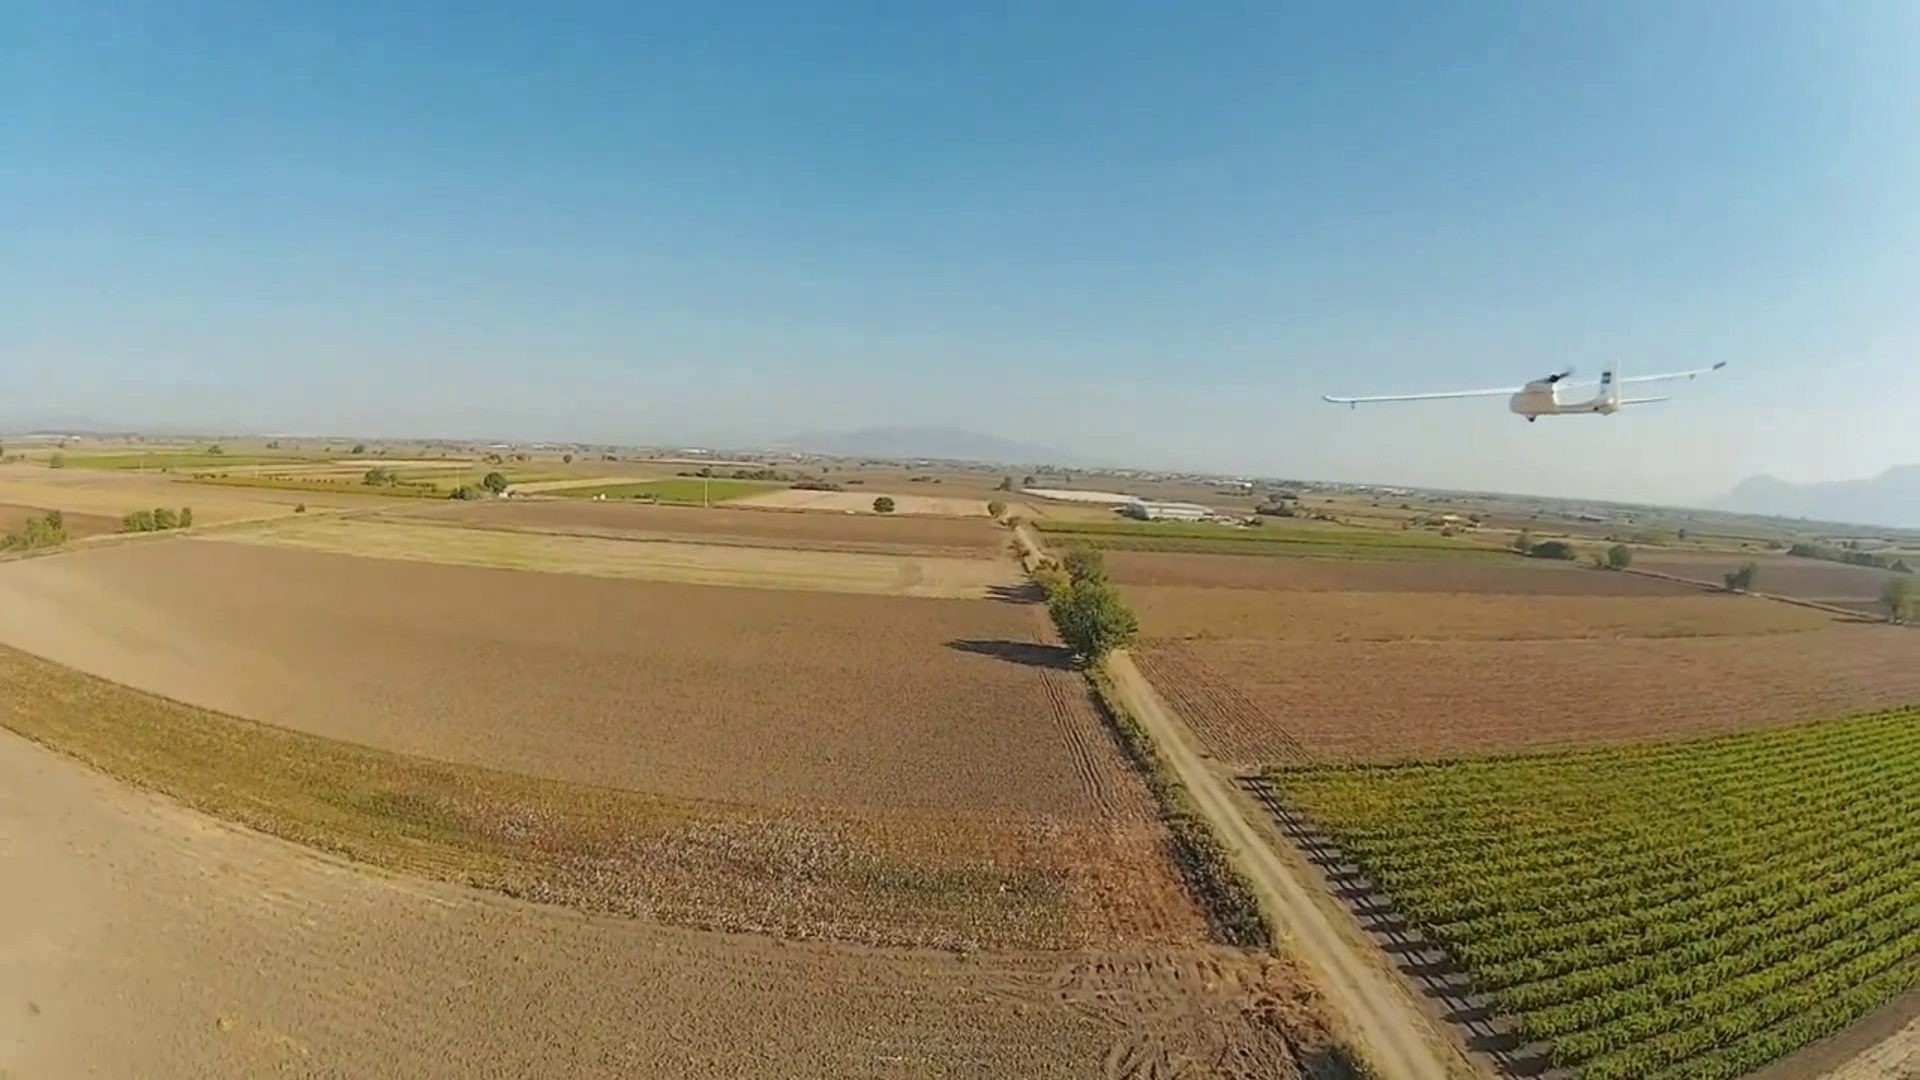airplane: (1319, 357, 1724, 417), (1510, 357, 1727, 421)
